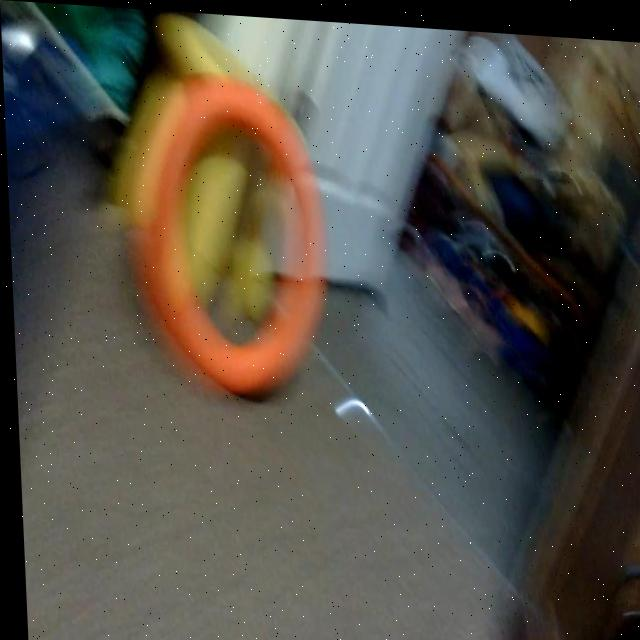note: (137, 73, 332, 399)
